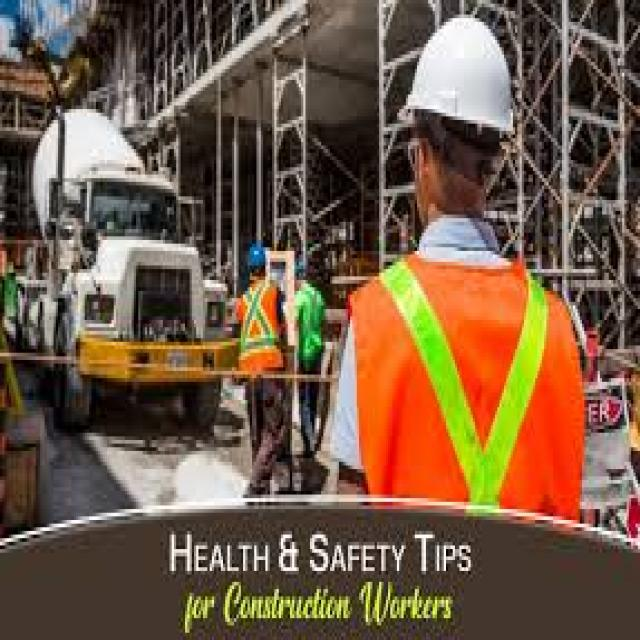Reflective-Jacket: (341, 236, 571, 513), (234, 280, 286, 382)
Safety-Helmet: (397, 18, 520, 149), (245, 240, 268, 273)
